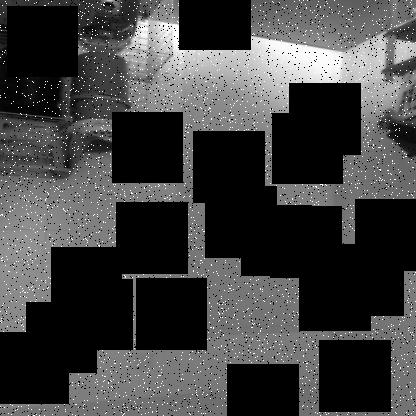Porte: (167, 20, 344, 340)
